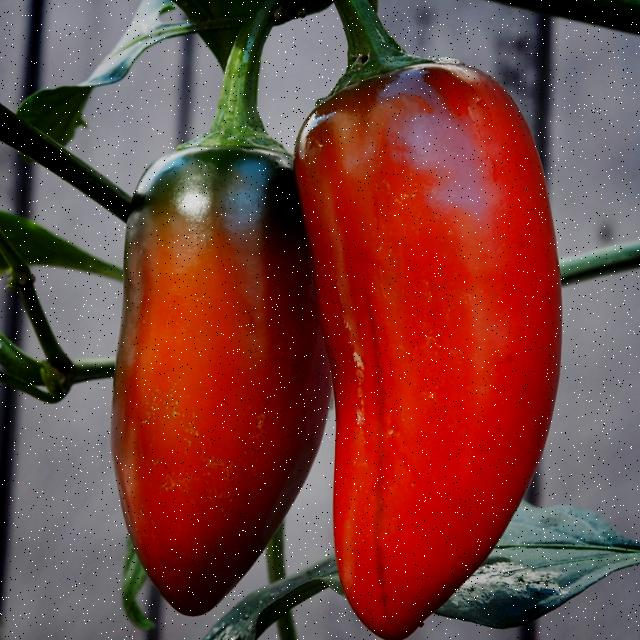Chili Pepper: (289, 47, 586, 628), (86, 70, 320, 627)
